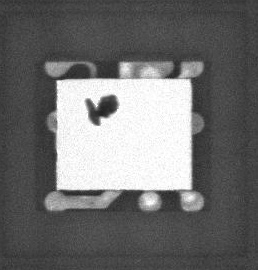DIE_INK: (80, 96, 114, 132)
